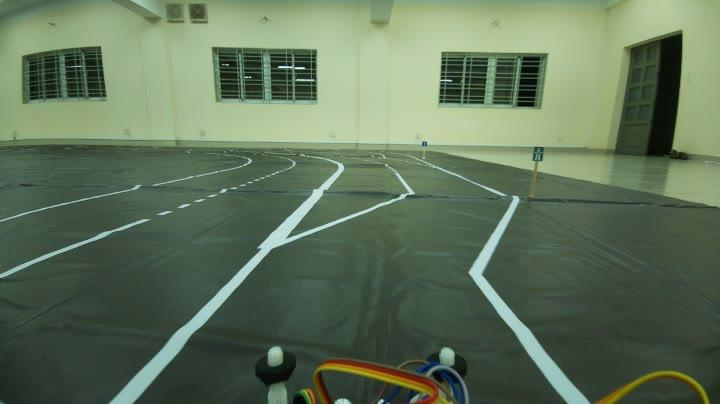highway_entry: (530, 136, 548, 162)
